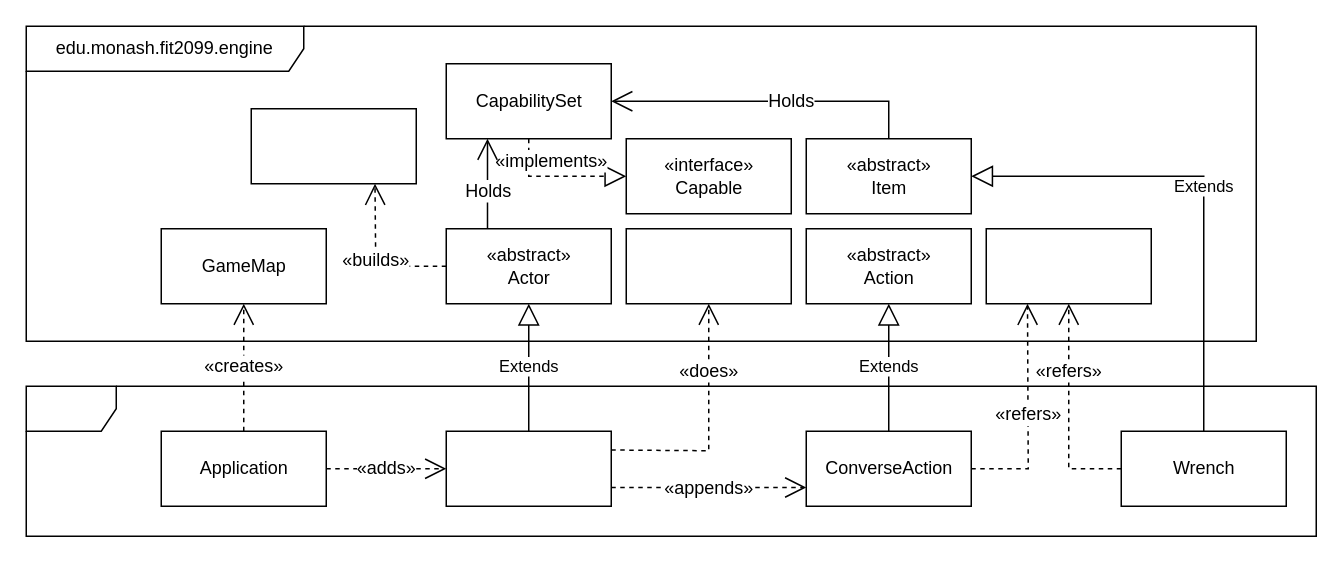
Image size: 1343x563. Some labels were removed from this diagram. The shapes that lost their labels are listed below. From the top down, each one's box as (x1, y1, x2, y2) in pixels, then its label:
(250, 107, 416, 184): ActionList
(625, 227, 791, 304): DoNothingAction
(985, 227, 1151, 304): «enum» Status
(445, 430, 611, 506): Toad
(25, 385, 1316, 536): game
